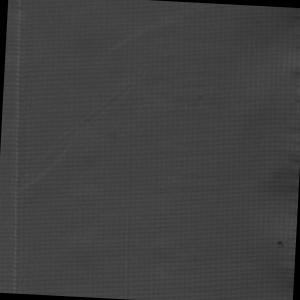Damage: (1, 1, 37, 294)
Wrinkle: (233, 6, 300, 300), (34, 62, 160, 175), (90, 1, 222, 75)
